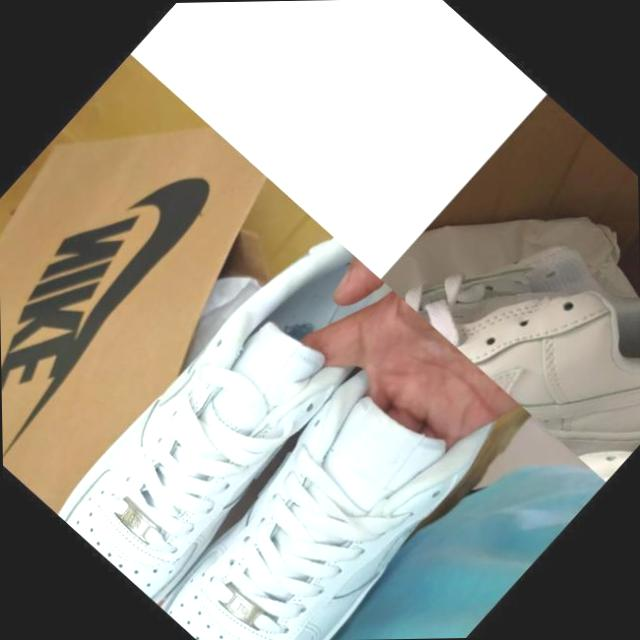nike_fake_airforce: (48, 219, 426, 607), (144, 319, 532, 640), (398, 120, 640, 481)
